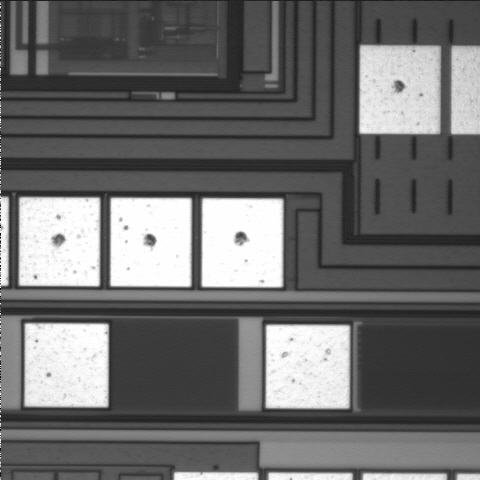pad: (110, 198, 192, 287), (19, 197, 100, 286), (202, 198, 283, 287), (359, 46, 440, 134), (25, 323, 109, 407), (266, 325, 350, 408)
